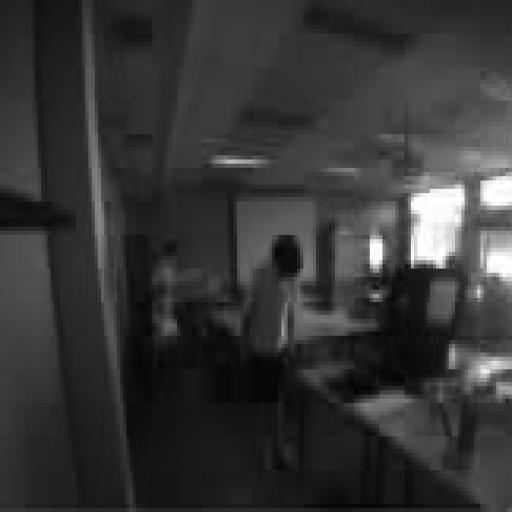human: (244, 236, 303, 465), (152, 240, 180, 373)
